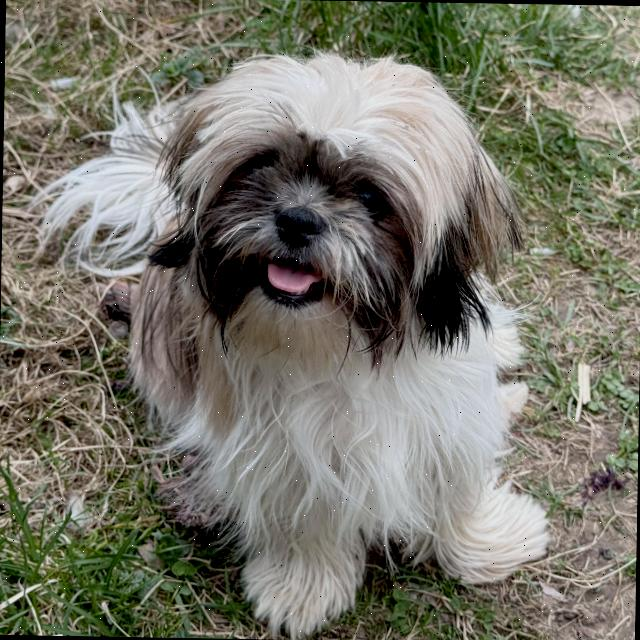shih_tzu_dog: (150, 42, 532, 381)
